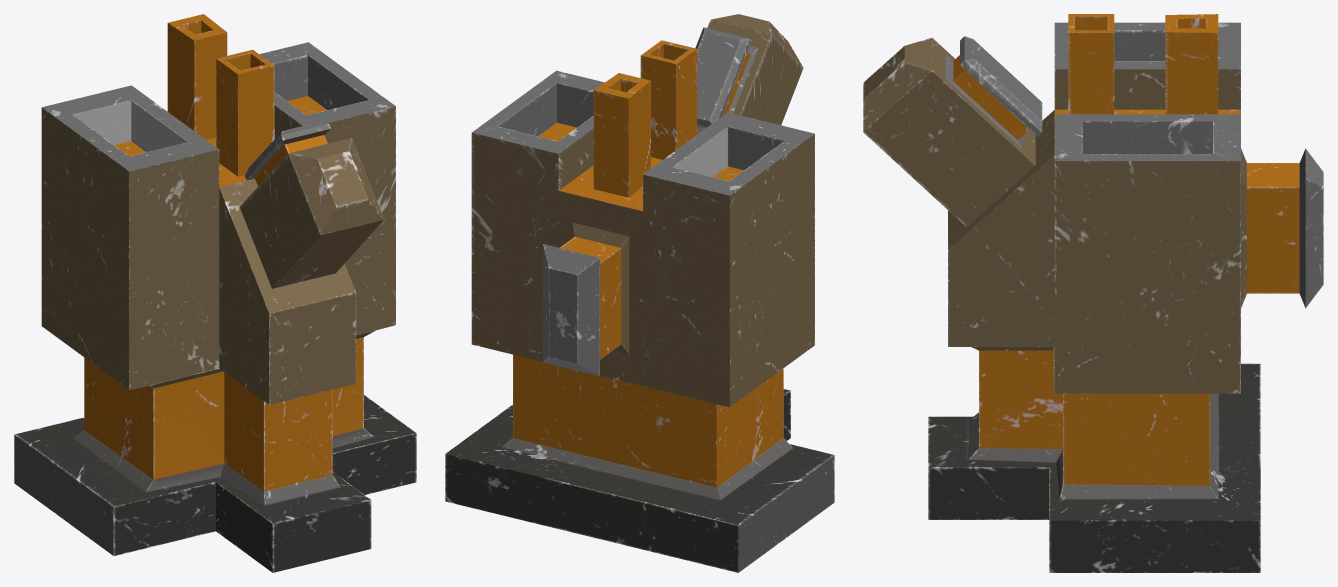
The model's file is Machine_Déco_10.fbx.
The picture shows the model from 3 angles, left to right: view 1: azimuth 30°, elevation 25°; view 2: azimuth 150°, elevation 25°; view 3: azimuth 270°, elevation 25°; orthographic projection. The views are drawn at different scales.
Visible parts, largest first — view 1: polySurface87; view 2: polySurface87; view 3: polySurface87.
Boxes of the visible parts, x1=… form: polySurface87: x1=14, y1=14, x2=416, y2=572; polySurface87: x1=445, y1=14, x2=834, y2=572; polySurface87: x1=863, y1=14, x2=1323, y2=572.
Size of the model in its own units: 3.48 by 4.9 by 4.31.
